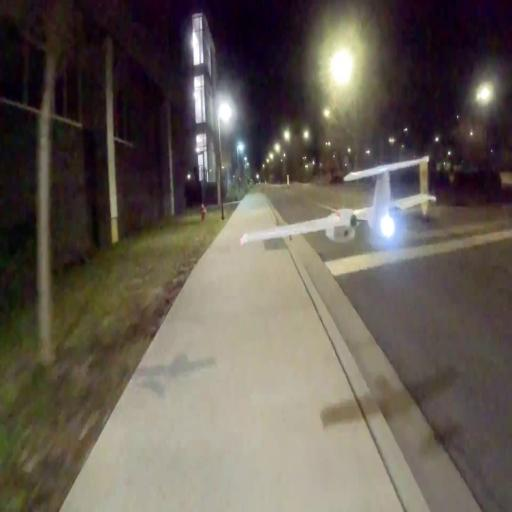uav: (235, 148, 442, 252)
